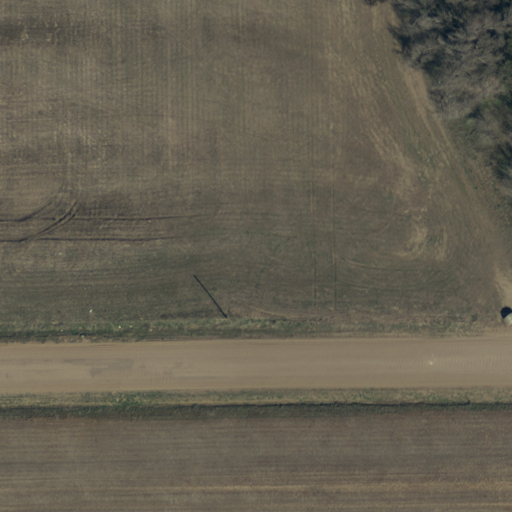DT: (217, 308, 237, 328)
